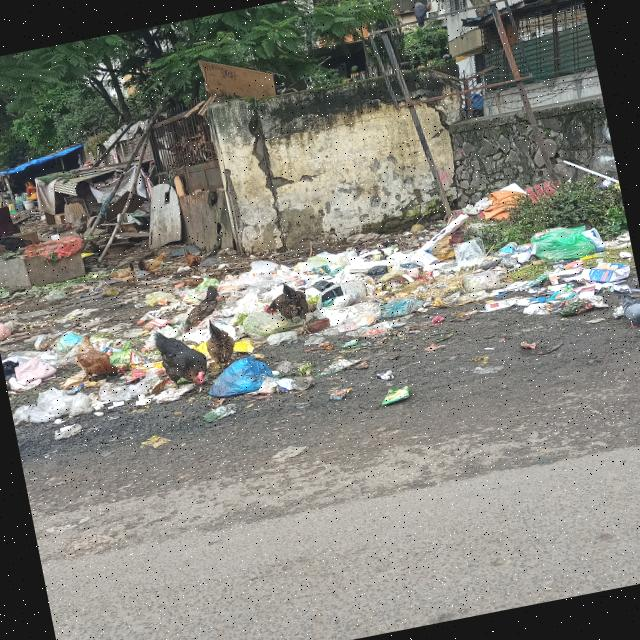garbage: (247, 177, 640, 390), (0, 270, 278, 441)
